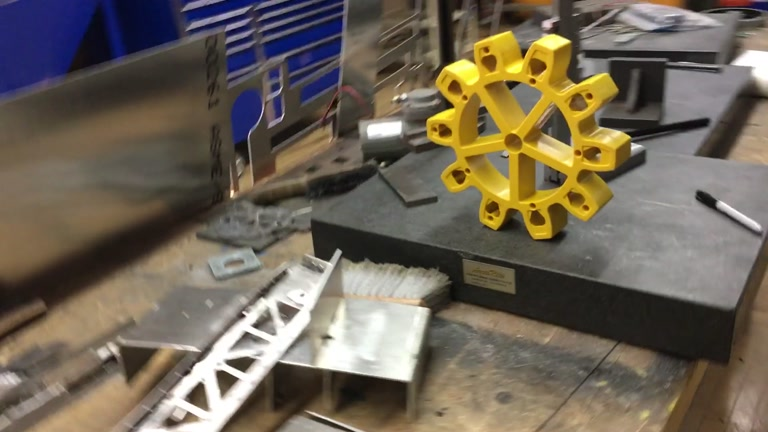gear: (425, 30, 632, 241)
